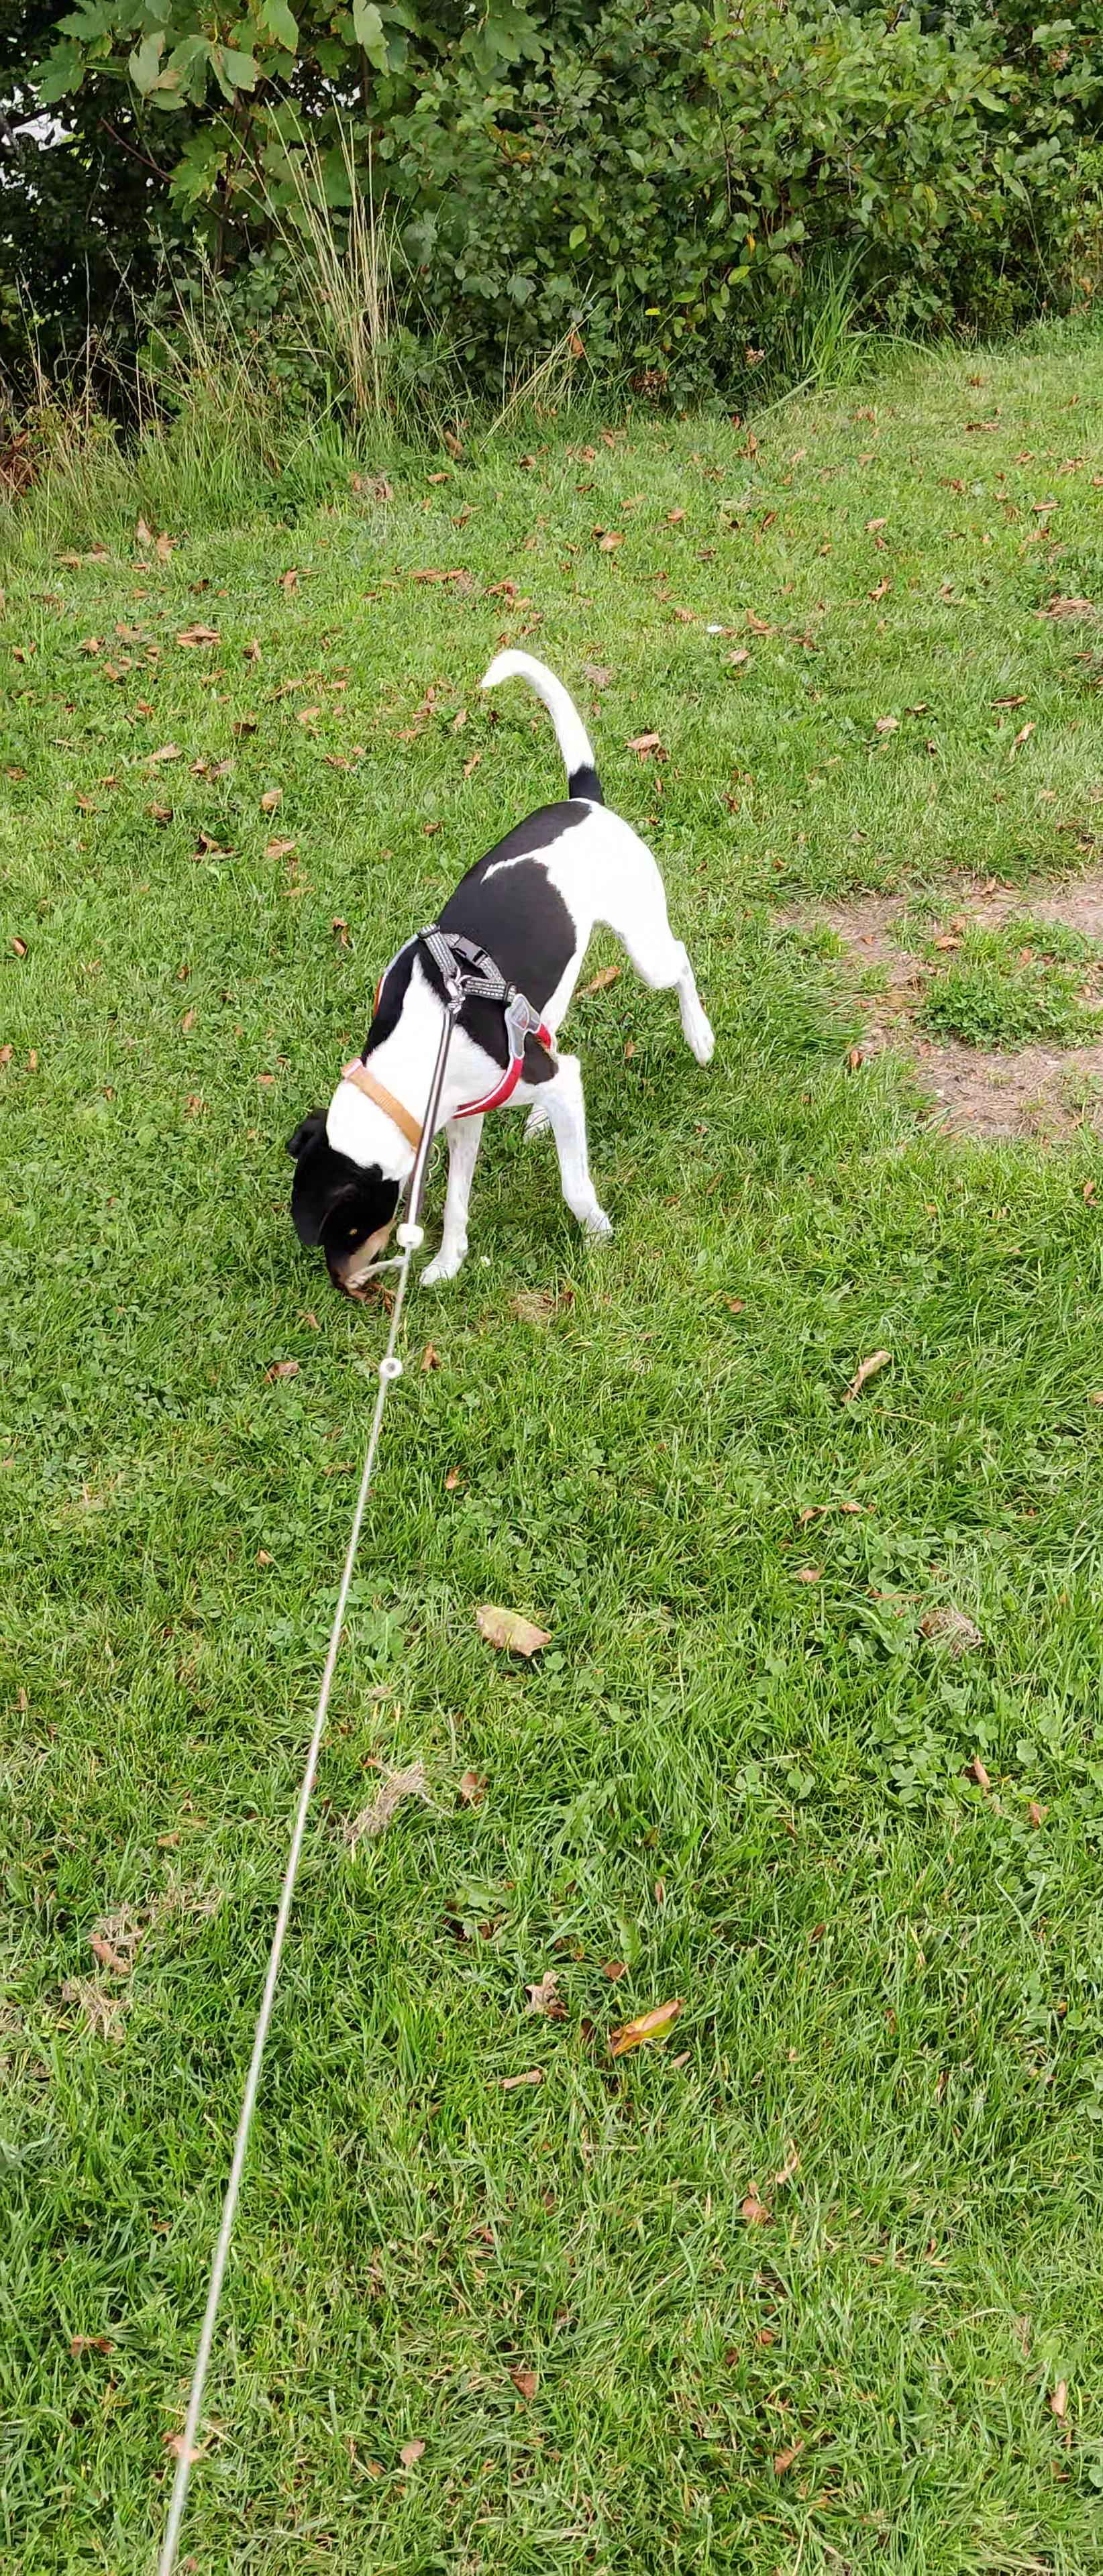Dog: (278, 642, 723, 1301)
